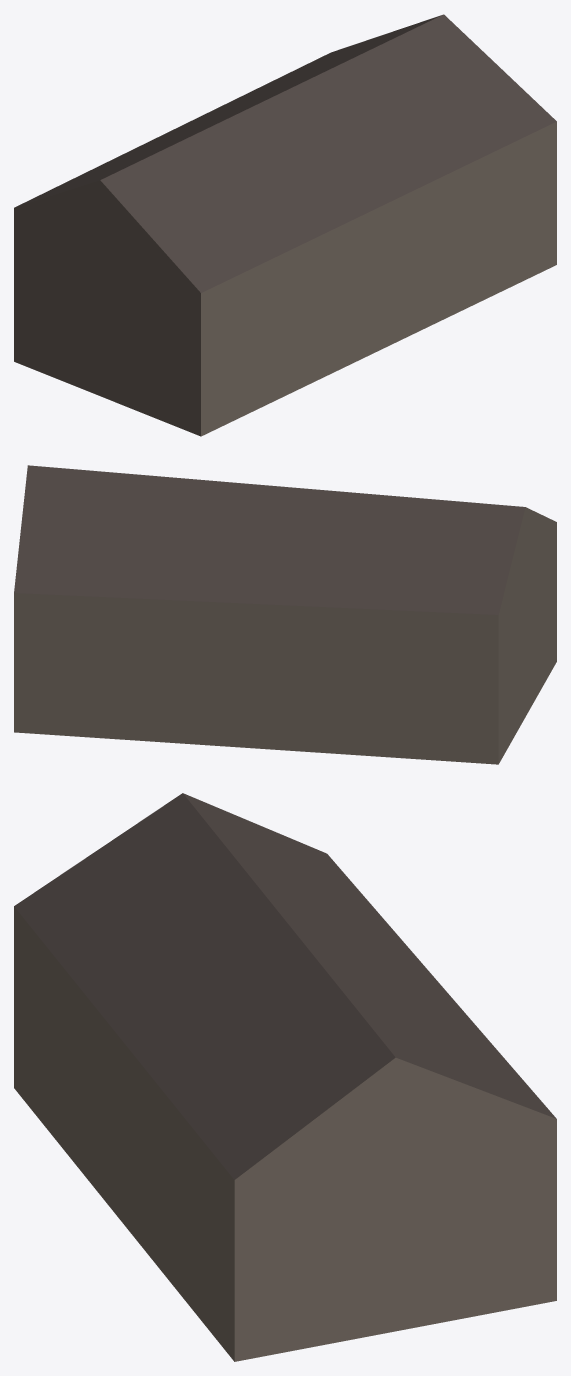
3 views of the same model, one above another, from view 1: azimuth 30°, elevation 25°; view 2: azimuth 150°, elevation 25°; view 3: azimuth 270°, elevation 25° (orthographic). The views are drawn at different scales.
Parts seen in each view (by area): view 1: HP-w1516161981; view 2: HP-w1516161981; view 3: HP-w1516161981.
Boxes of the visible parts, bbox=[...] form: HP-w1516161981: bbox=[14, 14, 556, 436]; HP-w1516161981: bbox=[14, 465, 556, 764]; HP-w1516161981: bbox=[14, 793, 556, 1361].
Size of the model in its own units: 22.17 by 9.04 by 16.24.
